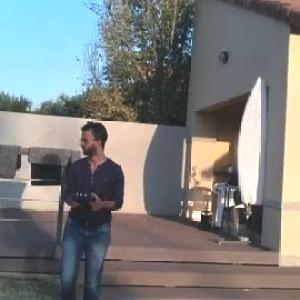follow: (53, 115, 128, 299)
